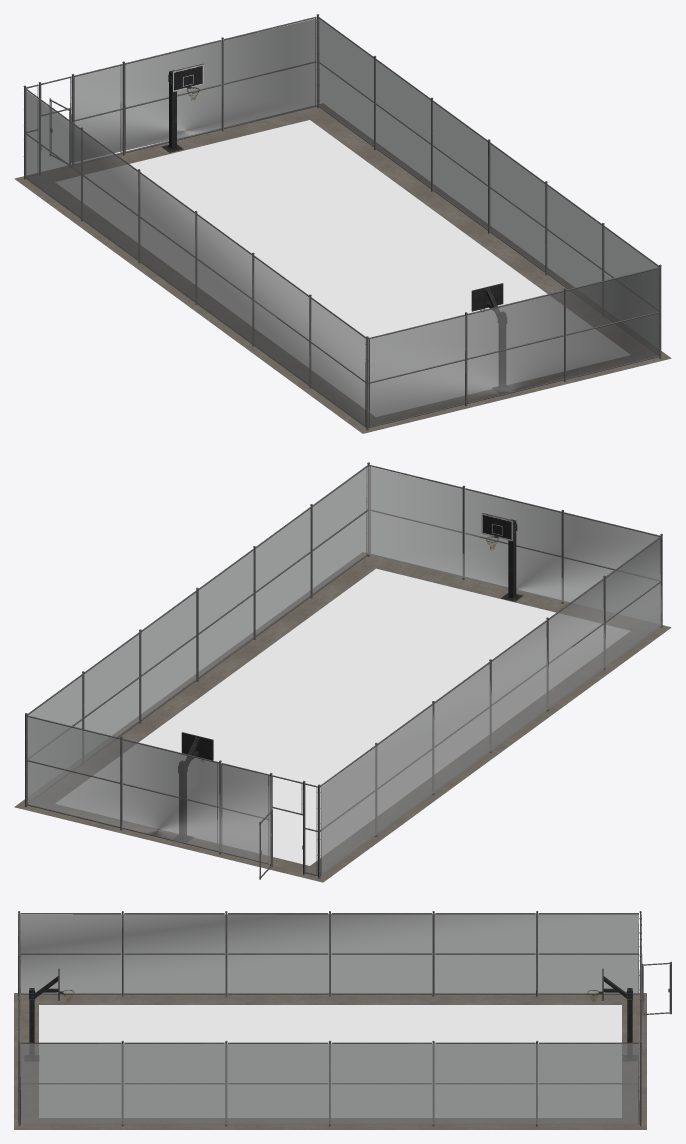
Rendered from street_court.glb.
3 views of the same model, one above another, from view 1: azimuth 30°, elevation 25°; view 2: azimuth 150°, elevation 25°; view 3: azimuth 270°, elevation 25° (orthographic). The views are drawn at different scales.
Visible parts, largest first — view 1: object 1, object 2, Hoop, Hoop.001; view 2: object 1, object 2, Hoop, Hoop.001; view 3: object 1, object 2, Hoop.001, Hoop.
Part boxes in pixels (x1,y1,x2,y2): object 1: [23, 14, 661, 430]; object 2: [14, 103, 671, 433]; Hoop: [471, 283, 513, 393]; Hoop.001: [161, 63, 203, 152]; object 1: [25, 462, 662, 879]; object 2: [14, 552, 671, 882]; Hoop: [481, 513, 523, 601]; Hoop.001: [173, 732, 213, 842]; object 1: [18, 911, 671, 1126]; object 2: [14, 993, 646, 1129]; Hoop.001: [587, 968, 637, 1061]; Hoop: [24, 968, 74, 1061].
Size of the model in its own units: 13.29 by 3.84 by 27.
Materials: 7 (7 with a texture image).
